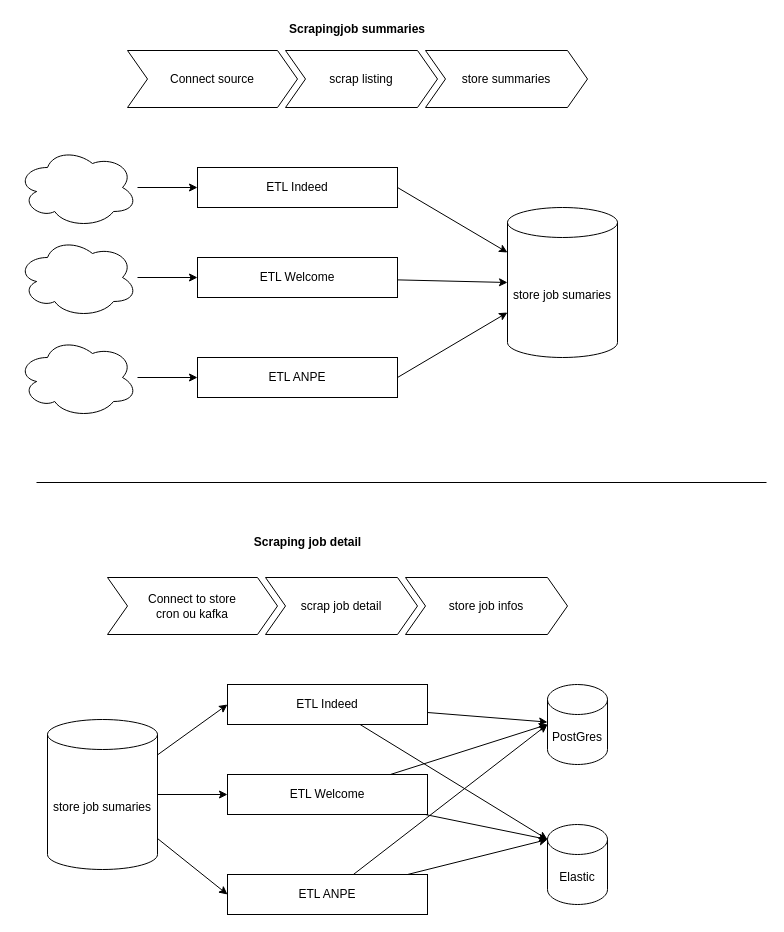
Image size: 784x932. Some labels were removed from this diagram. Each missing label, with the centre of its shape:
"anpe" goes at (77,377).
"Indeed" goes at (77,187).
"welcome" goes at (77,277).
